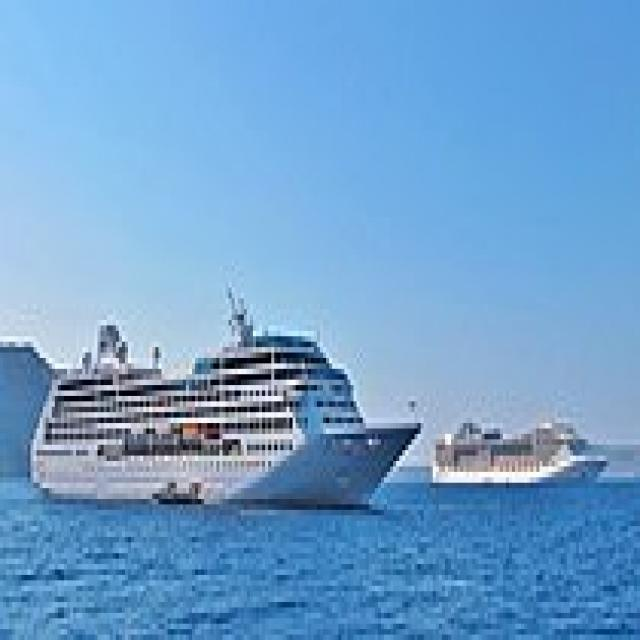Ship: (19, 278, 428, 533)
